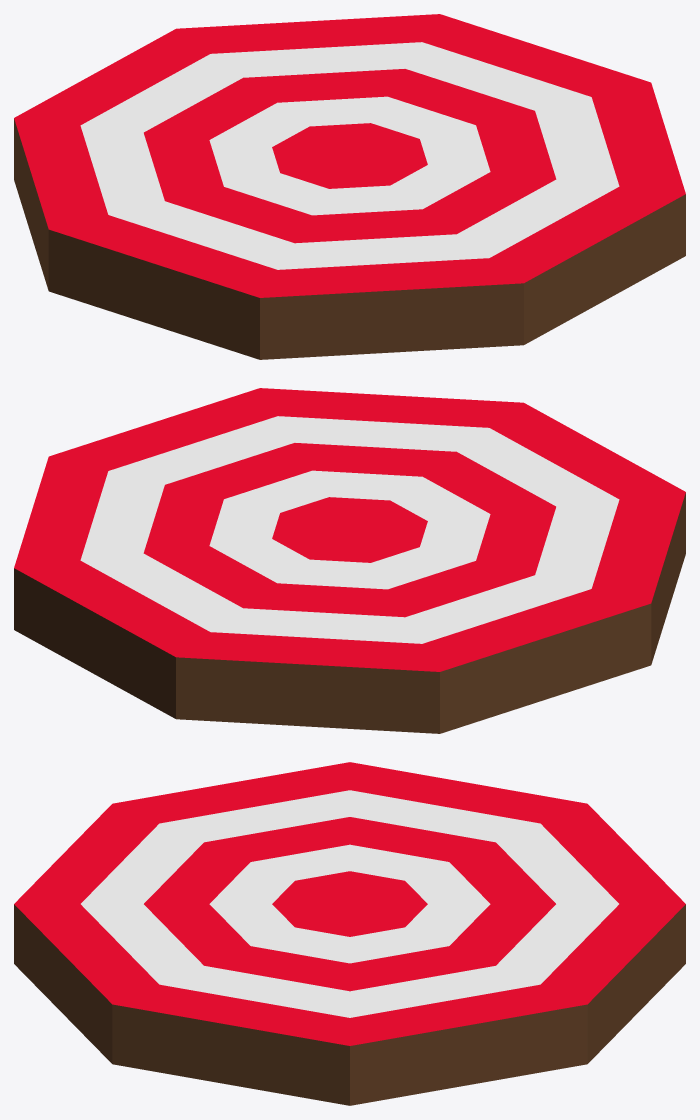
Rendered from Target.fbx.
3 views of the same model, one above another, from view 1: azimuth 30°, elevation 25°; view 2: azimuth 150°, elevation 25°; view 3: azimuth 270°, elevation 25° (orthographic). The views are drawn at different scales.
Parts seen in each view (by area): view 1: _BaseTarget; view 2: _BaseTarget; view 3: _BaseTarget.
Part boxes in pixels (x1,y1,x2,y2): _BaseTarget: (14, 14, 685, 359); _BaseTarget: (14, 388, 685, 733); _BaseTarget: (14, 762, 685, 1105).
Bounding box in the file's own units: 15.81 × 1.55 × 15.81.
